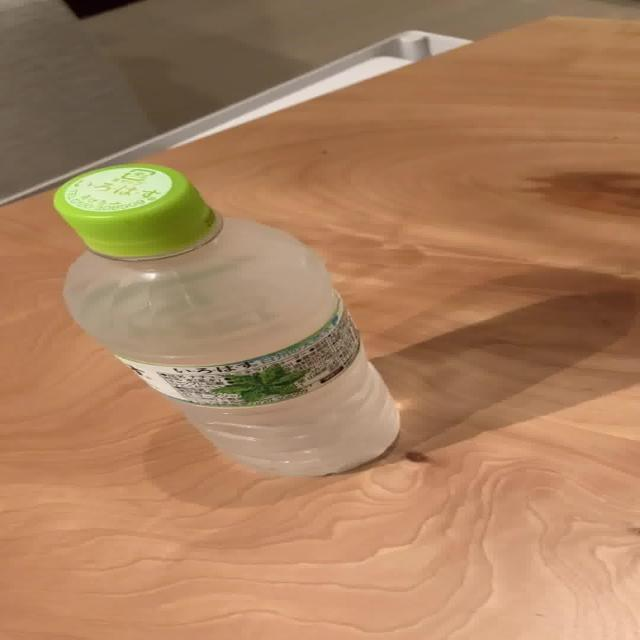good: (49, 162, 404, 480)
